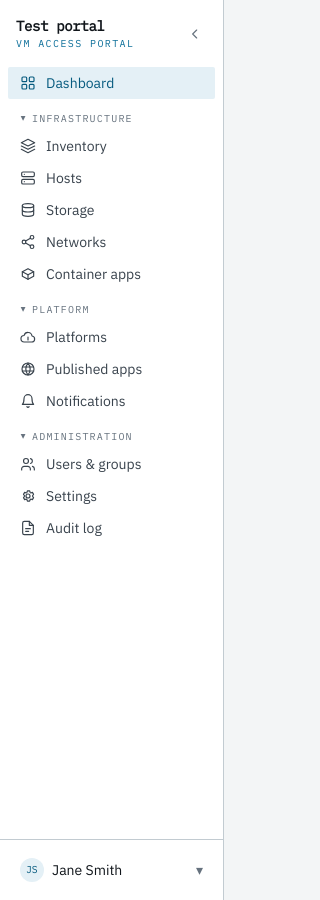
Test case: Shell navigation › collapses, and the links keep their names for a screen reader
Click the button named "Collapse menu" at (195, 34), box x1=183 y1=22 x2=207 y2=46
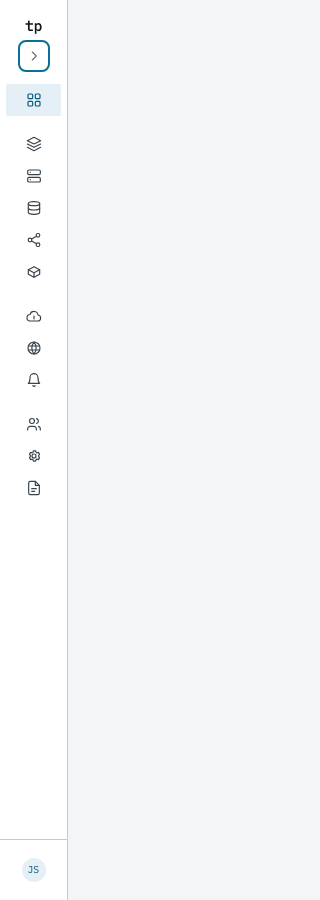
Expected: the link named "Dashboard" is shown, x1=6 y1=84 x2=61 y2=116
Expected: the button named "Expand menu" is shown, x1=22 y1=44 x2=46 y2=68
